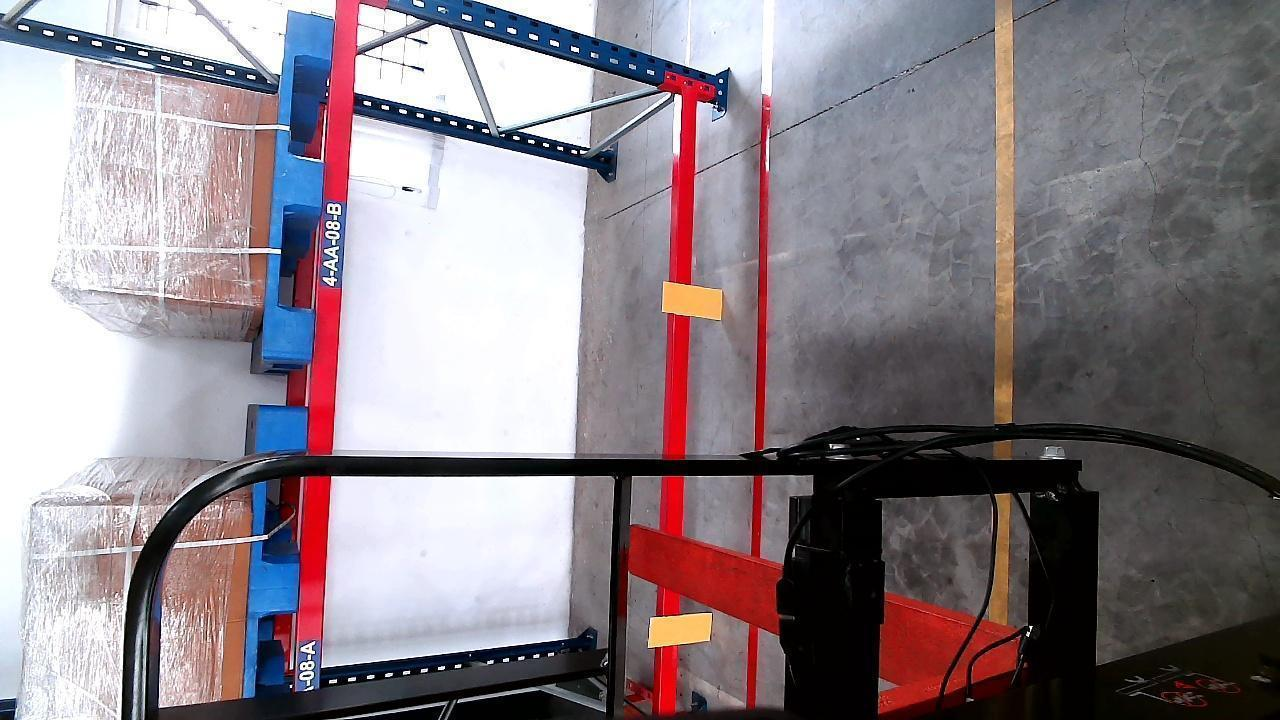red_line: (744, 67, 775, 710)
yellow_line: (993, 4, 1018, 421)
